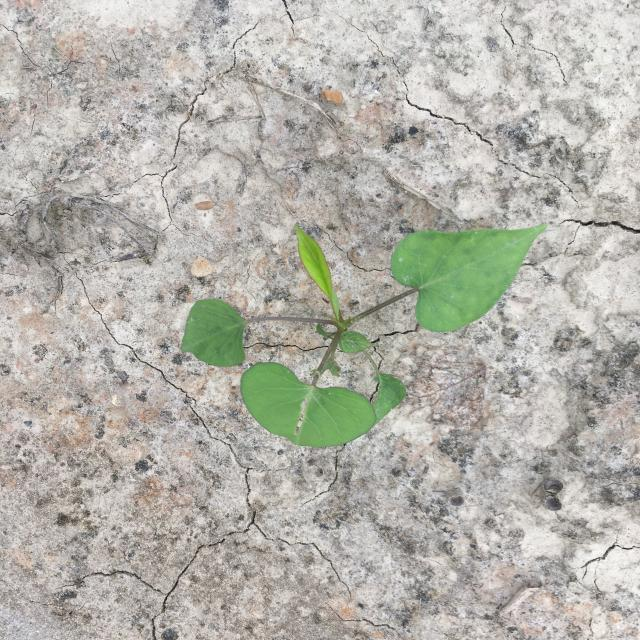MorningGlory: (180, 223, 548, 448)
